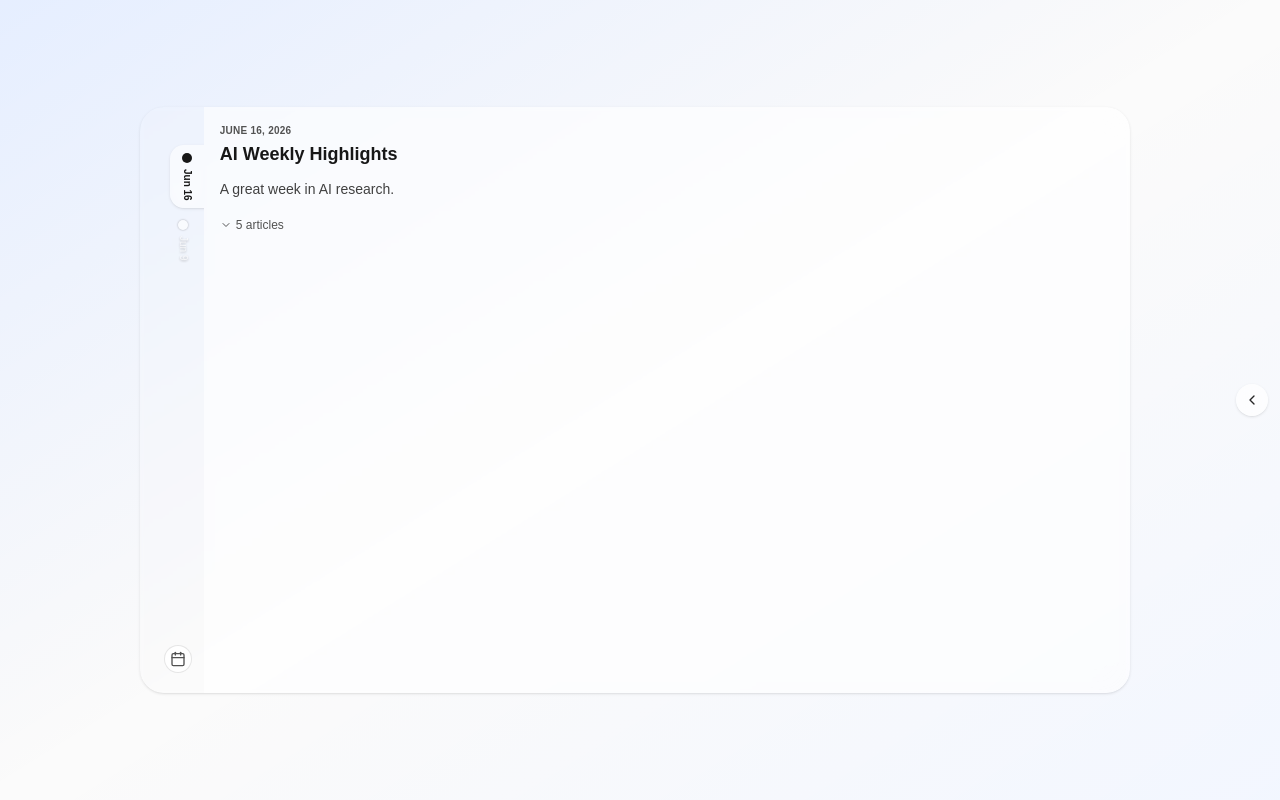
Test: WeeklyReportWidget › selecting a different week option updates the displayed report
The width and height of the screenshot is (1280, 800).
Expected: the heading "AI Weekly Highlights" is shown, x1=220 y1=142 x2=398 y2=166
Click the option "Jun 9": click(183, 241) x1=178 y1=220 x2=188 y2=261
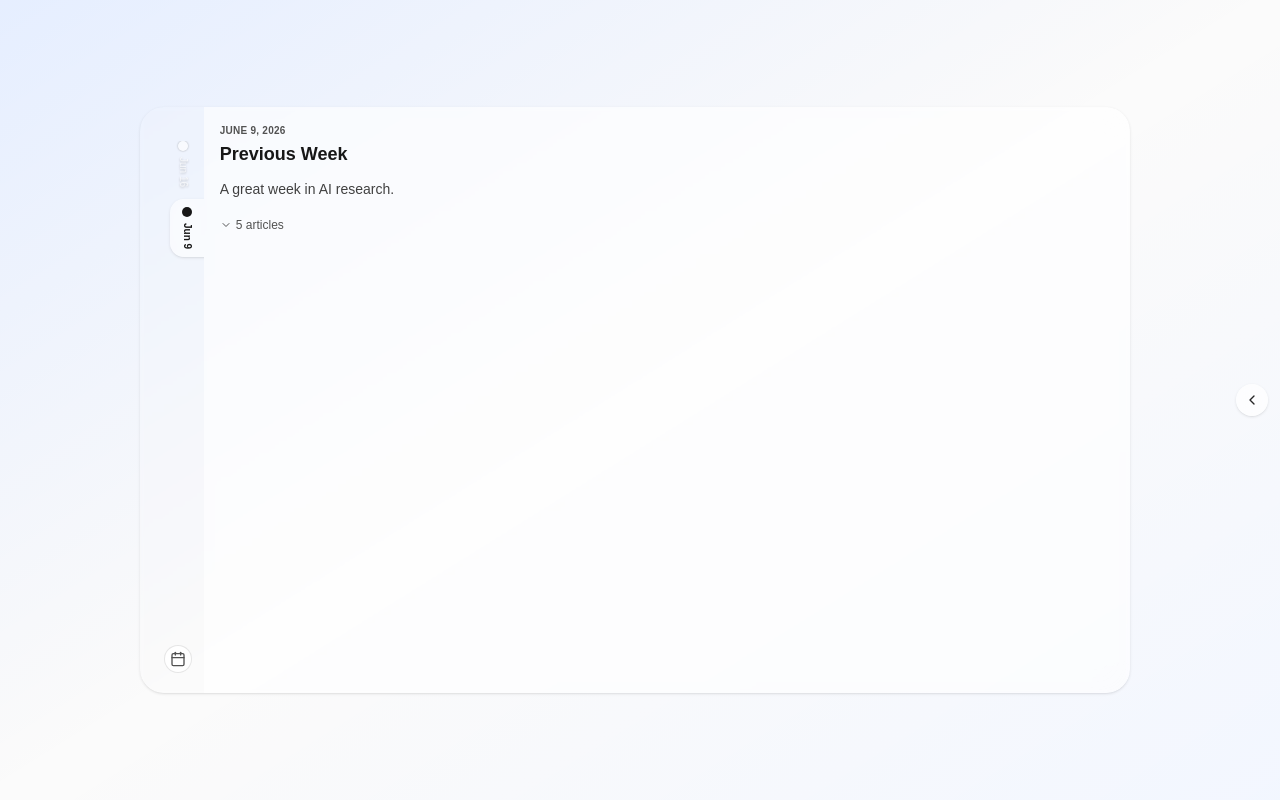
Result: the heading "Previous Week" is shown at x1=220 y1=142 x2=348 y2=166
